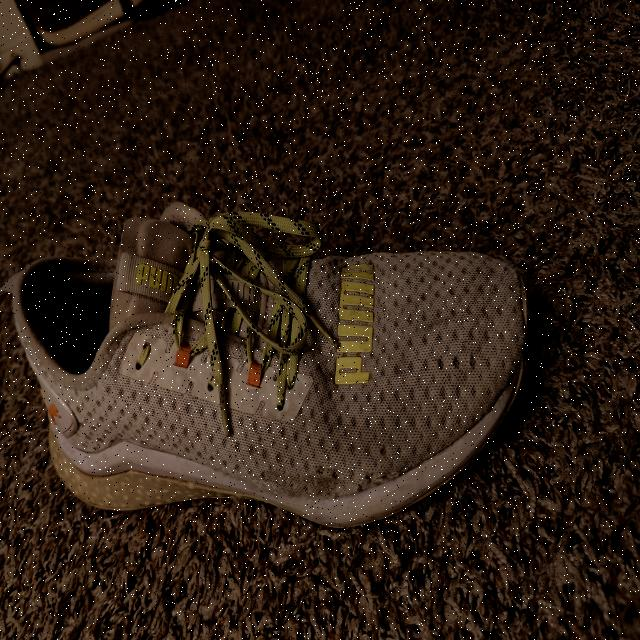white shoes: (18, 218, 434, 465)
